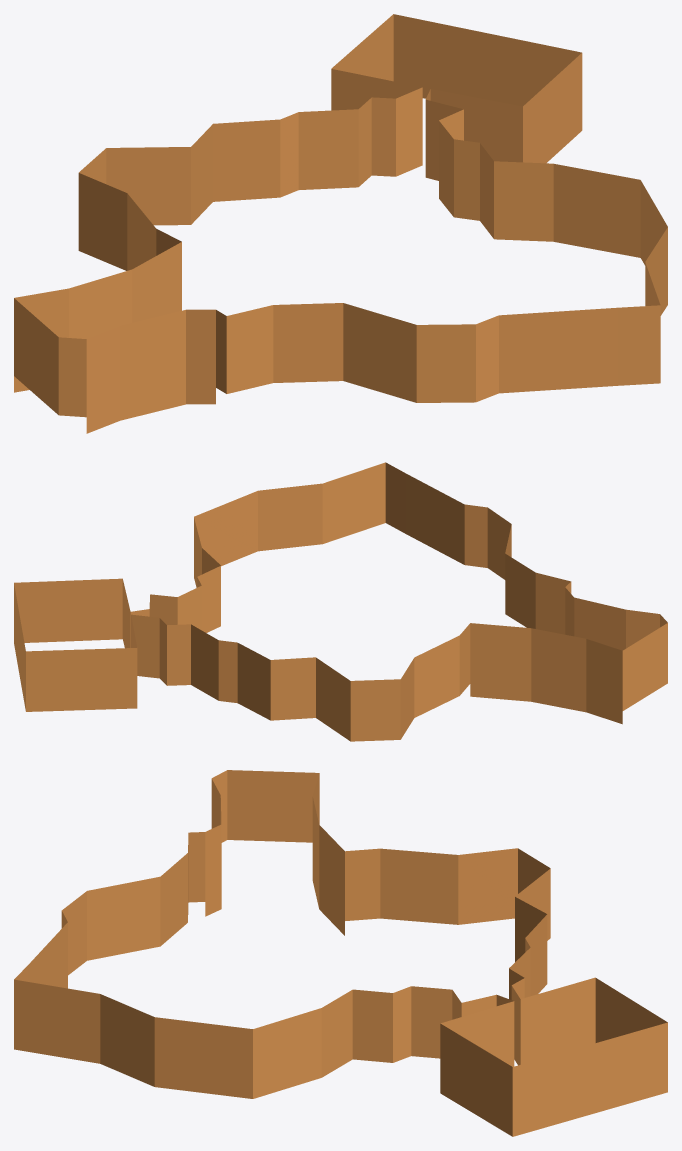
Rendered from ColisonesEscenario.fbx.
3 renders of one model, top to bottom at view 1: azimuth 30°, elevation 25°; view 2: azimuth 150°, elevation 25°; view 3: azimuth 270°, elevation 25°, orthographic. The views are drawn at different scales.
Parts seen in each view (by area): view 1: ColisionesEscenario; view 2: ColisionesEscenario; view 3: ColisionesEscenario.
Boxes of the visible parts, <box> form: ColisionesEscenario: <box>14,14,667,433</box>; ColisionesEscenario: <box>14,462,667,741</box>; ColisionesEscenario: <box>14,770,667,1136</box>.
Bounding box in the file's own units: 14123 × 1907 × 13083.
Materials: 1 (1 with a texture image).
